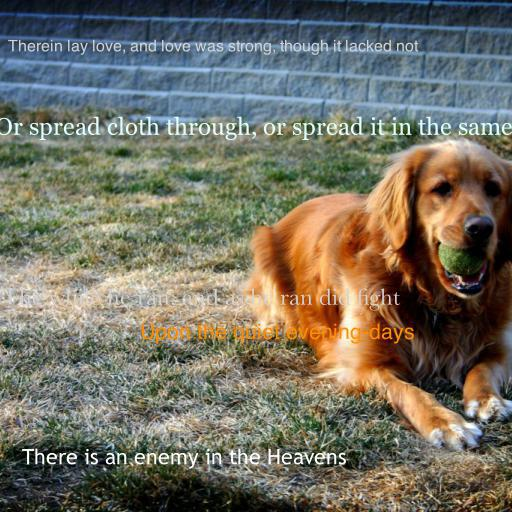Baskerville: (2, 288, 400, 311)
Georgia: (0, 116, 512, 140)
Impact: (8, 39, 418, 55), (139, 323, 415, 344)
Trebuchet MS: (21, 448, 347, 469)
